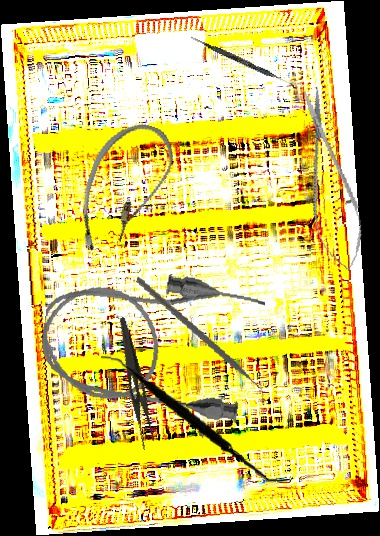Cannula: (34, 257, 268, 426), (67, 112, 182, 267)
Chopper: (118, 276, 282, 407)
Dressing Forceps: (105, 316, 162, 451)
Micro Scissor: (286, 84, 373, 276)
Spatula Surgical: (91, 353, 297, 483), (188, 35, 299, 89)
